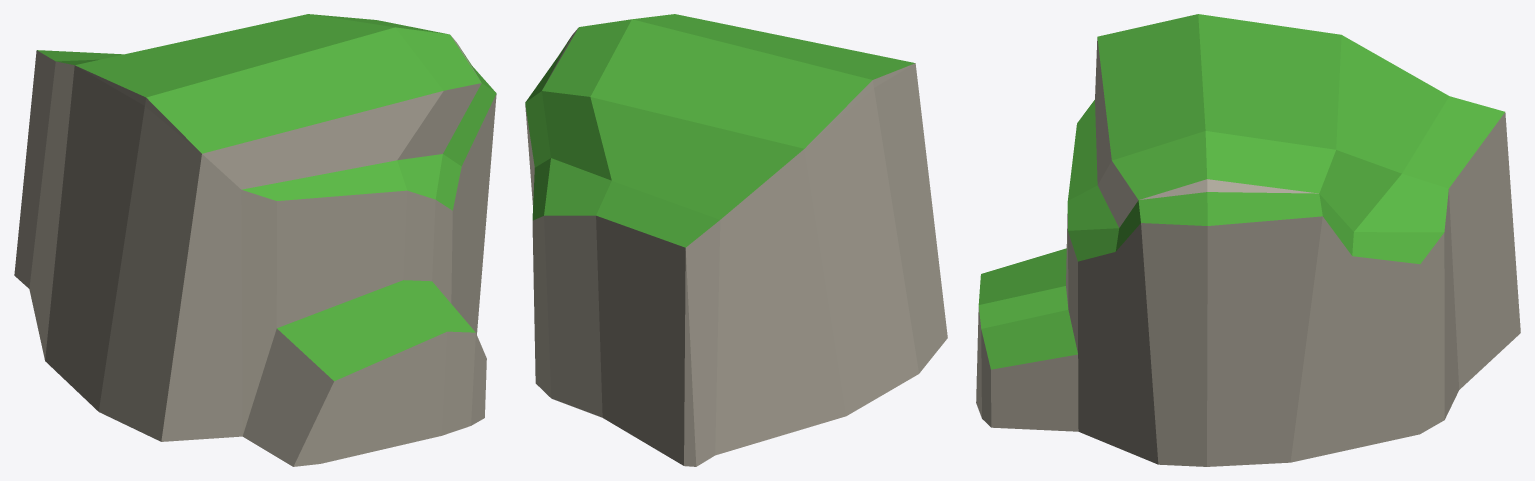
Rendered from mossy-rock-big.glb.
The picture shows the model from 3 angles, left to right: view 1: azimuth 30°, elevation 25°; view 2: azimuth 150°, elevation 25°; view 3: azimuth 270°, elevation 25°; orthographic projection. The views are drawn at different scales.
Visible parts, largest first — view 1: Rock_Moss_6; view 2: Rock_Moss_6; view 3: Rock_Moss_6.
Part boxes in pixels (box(x1,y1,x2,y2)): Rock_Moss_6: box(14, 14, 496, 466); Rock_Moss_6: box(525, 14, 947, 466); Rock_Moss_6: box(976, 14, 1520, 466).
Size of the model in its own units: 3.65 by 2.83 by 4.57.
